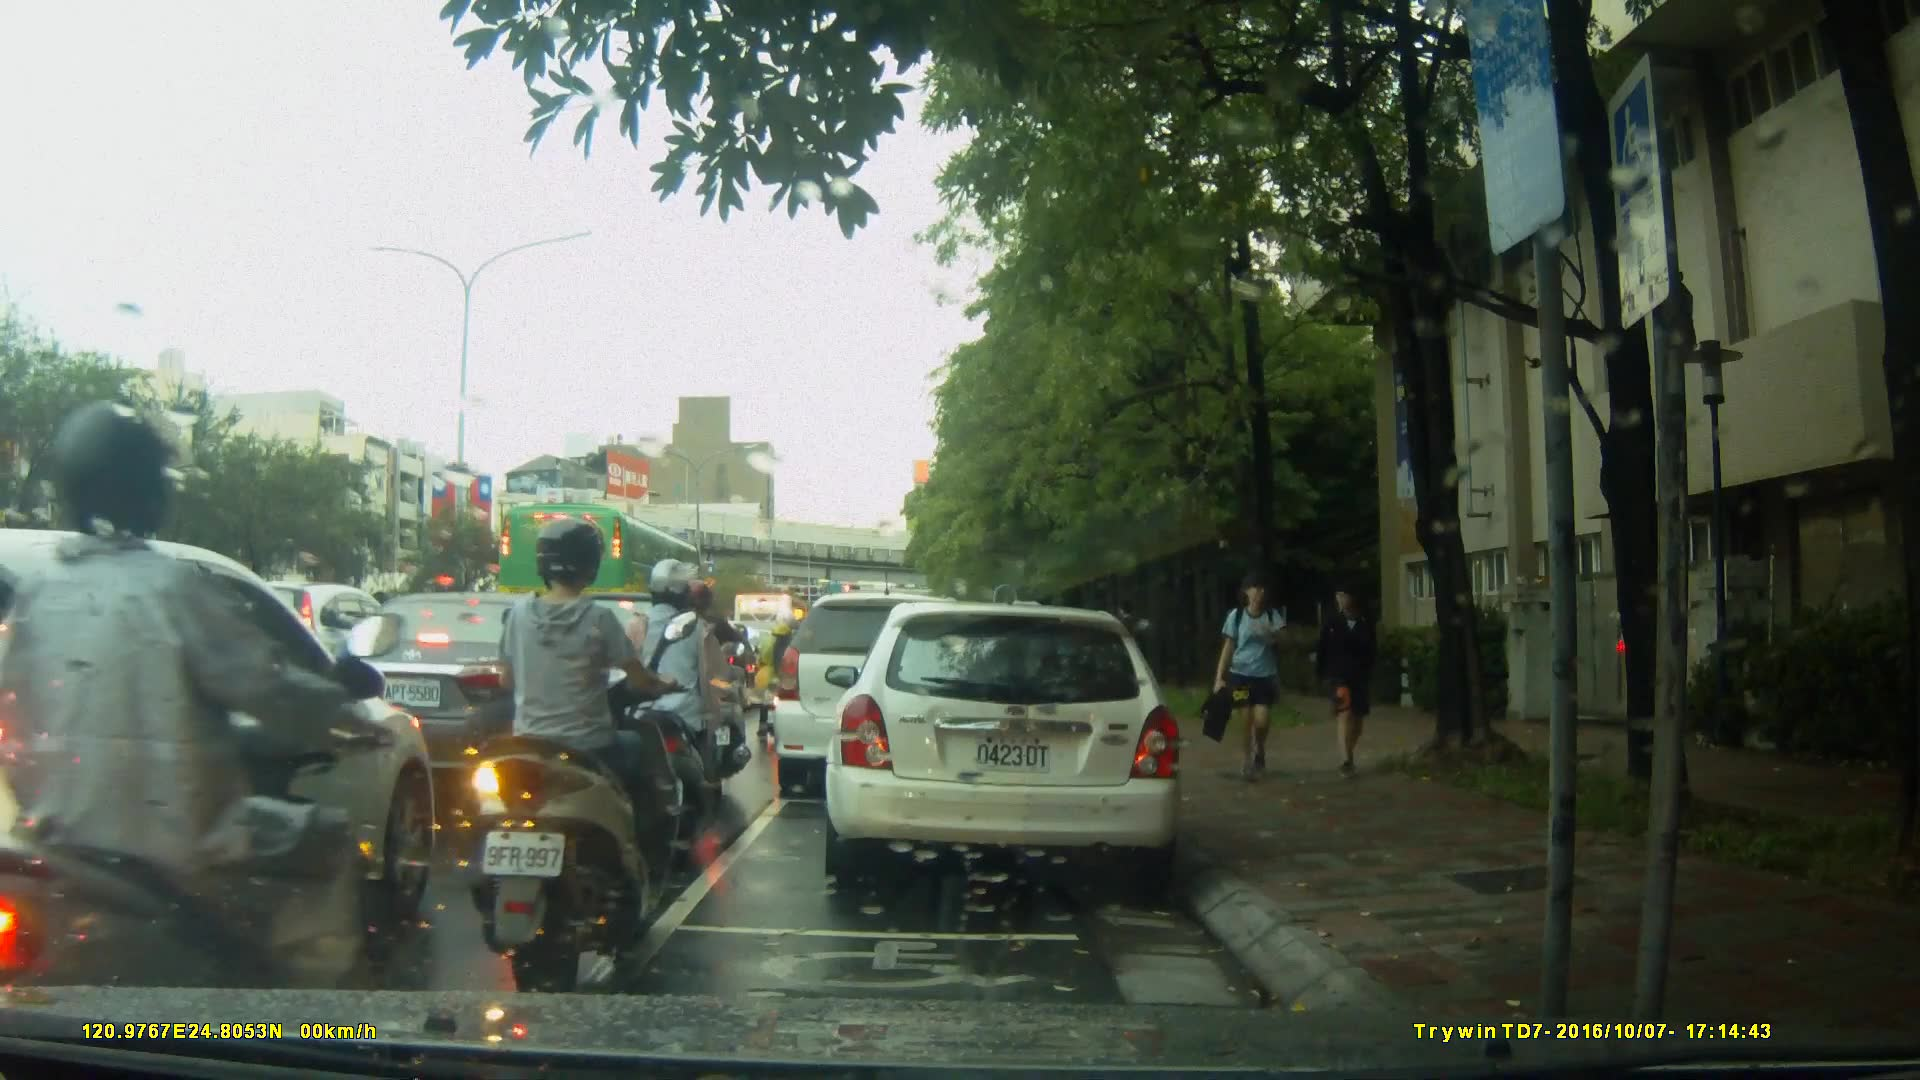pedestrian: (1201, 573, 1311, 787), (1312, 569, 1391, 781), (1121, 596, 1150, 687)
rider: (6, 393, 411, 1080), (477, 513, 673, 971), (624, 556, 719, 839), (676, 580, 757, 782), (760, 617, 810, 744)
vehicle: (1, 528, 448, 988), (831, 592, 1196, 897), (314, 590, 631, 803), (770, 591, 999, 803), (495, 500, 707, 636)
